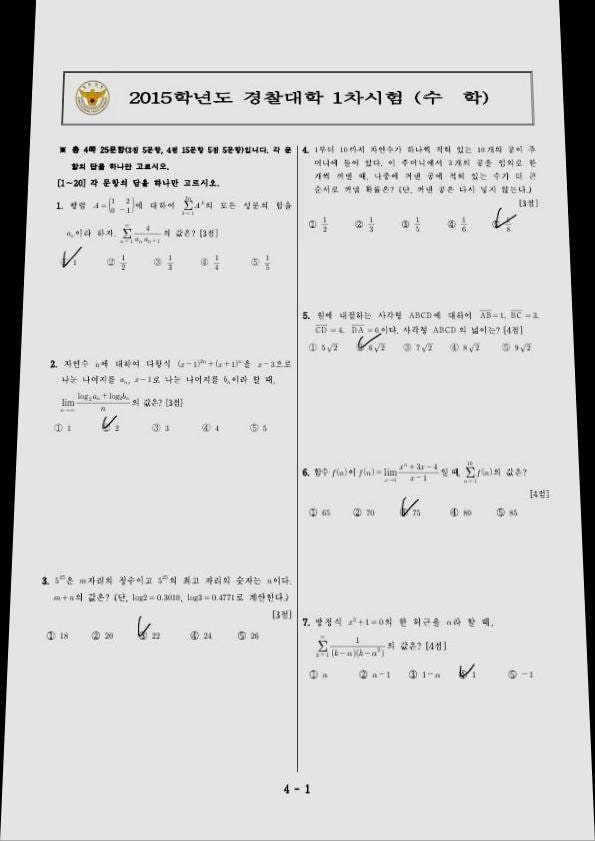question: (300, 138, 545, 242), (40, 351, 297, 442), (33, 569, 296, 653), (45, 193, 295, 280), (296, 609, 545, 690), (296, 456, 553, 528), (297, 304, 546, 364)
